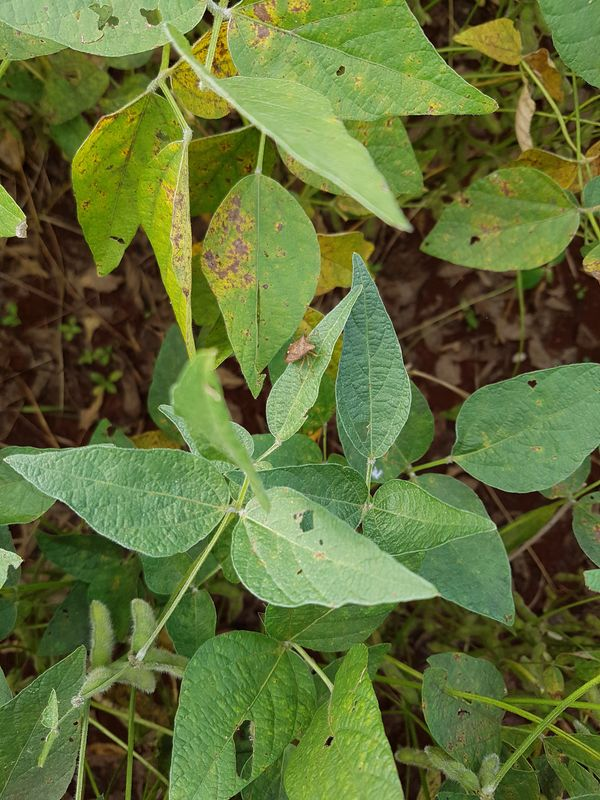Euschistus_heros_adulto: (277, 328, 329, 377)
